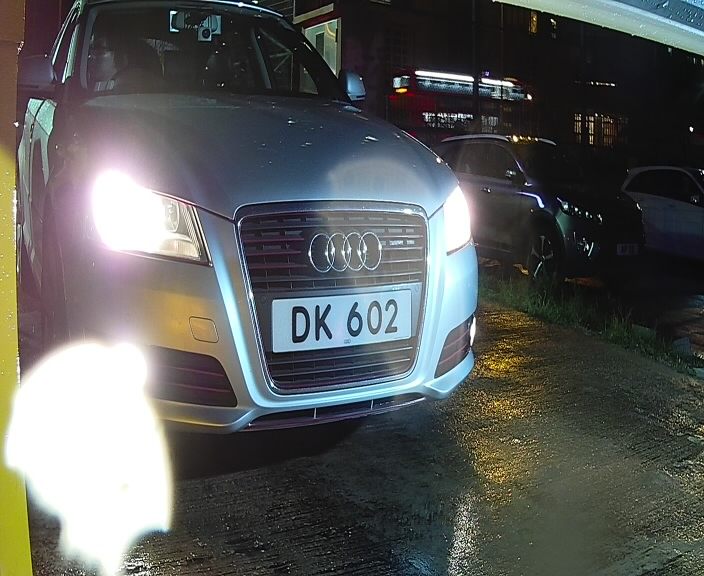Car: (9, 2, 506, 450)
License Plate: (267, 284, 423, 364)
